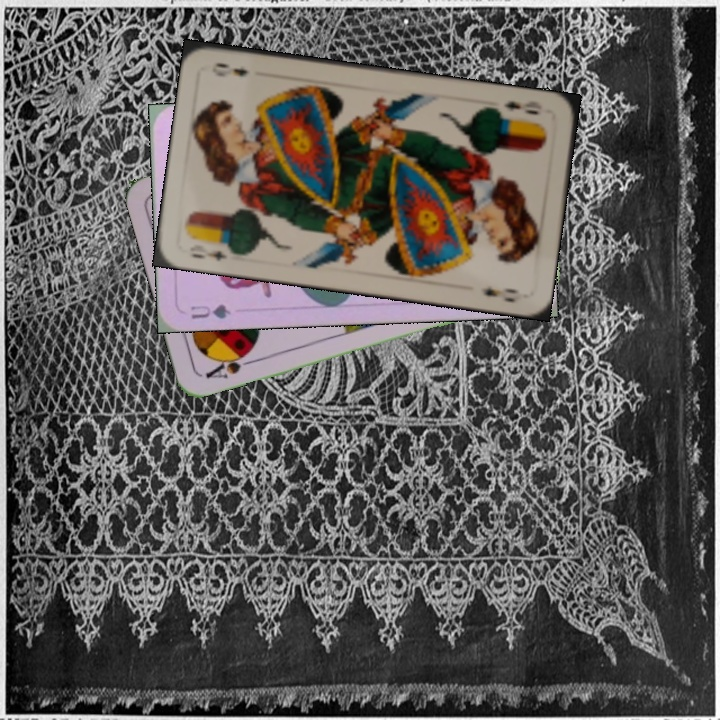EO: (187, 239, 239, 263), (499, 97, 542, 118)
GU: (187, 300, 233, 322)
SA: (201, 347, 258, 382)
